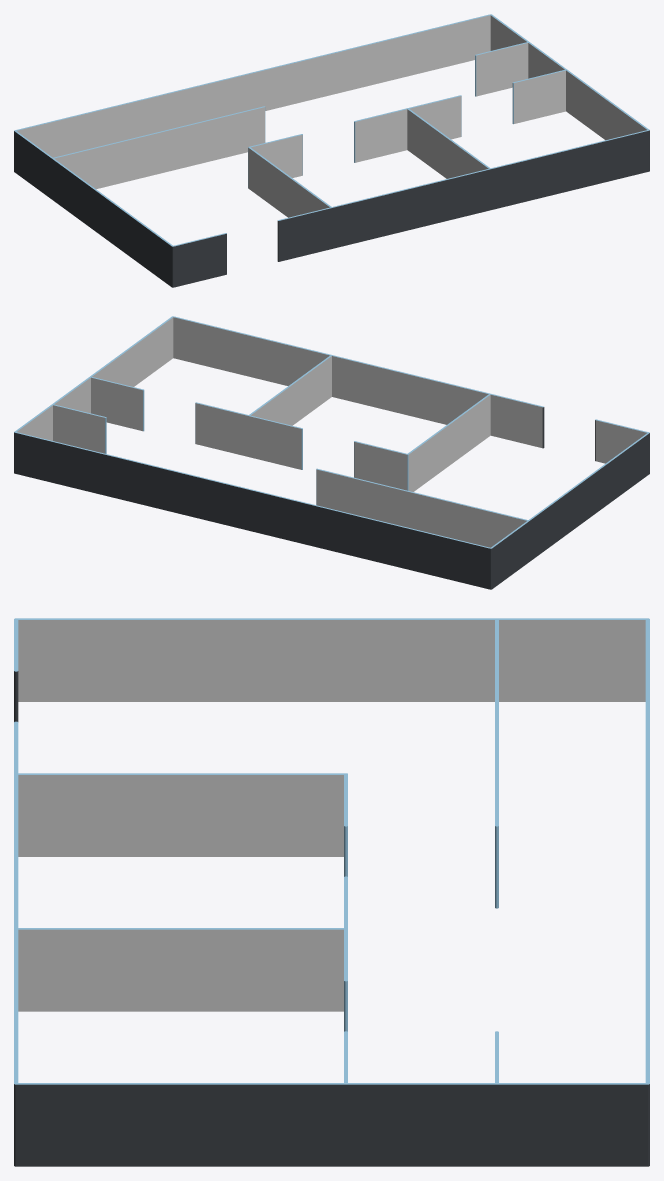
File: tortoisebot_warehouse_walls.dae
The picture shows the model from 3 angles, top to bottom: view 1: azimuth 30°, elevation 25°; view 2: azimuth 150°, elevation 25°; view 3: azimuth 270°, elevation 25°; orthographic projection. The views are drawn at different scales.
Visible parts, largest first — view 1: ID2; view 2: ID2; view 3: ID2.
Boxes of the visible parts, x1,y1,x2,y2 form: ID2: (14, 14, 649, 287); ID2: (14, 316, 649, 589); ID2: (14, 618, 649, 1166).
Bounding box in the file's own units: 2.68 × 1.55 × 0.22.
